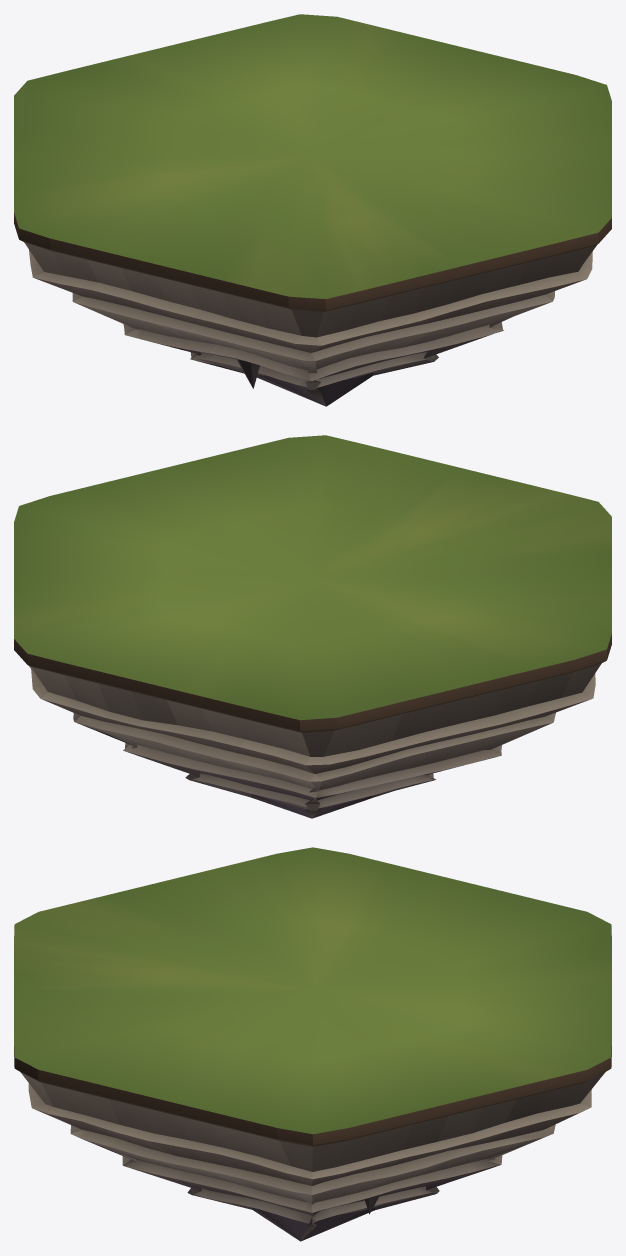
The model's file is socle_hex_4.glb.
3 renders of one model, top to bottom at view 1: azimuth 30°, elevation 25°; view 2: azimuth 150°, elevation 25°; view 3: azimuth 270°, elevation 25°, orthographic.
Visible parts, largest first — view 1: socle_hex_4; view 2: socle_hex_4; view 3: socle_hex_4.
Part boxes in pixels (x1,y1,x2,y2): socle_hex_4: [14, 14, 611, 406]; socle_hex_4: [14, 435, 611, 818]; socle_hex_4: [14, 847, 611, 1241].
Bounding box in the file's own units: 16.42 × 6.6 × 14.46.
